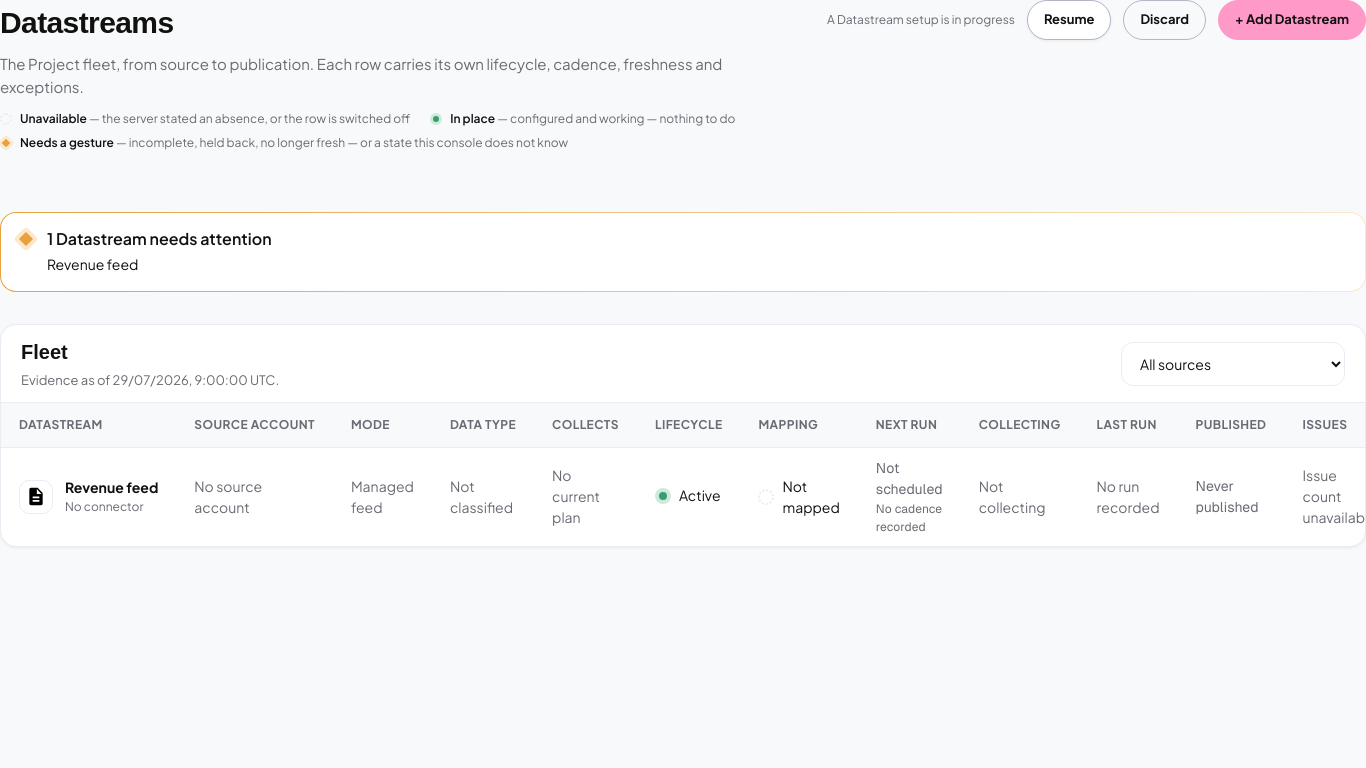
keeps the setup, and says why, when the discard is refused
Check: the text "A Datastream setup is in progress" is shown, box top-left (827, 11), bottom-right (1015, 29)
Click the button "Discard": click(1165, 20) top-left (1124, 0), bottom-right (1206, 40)
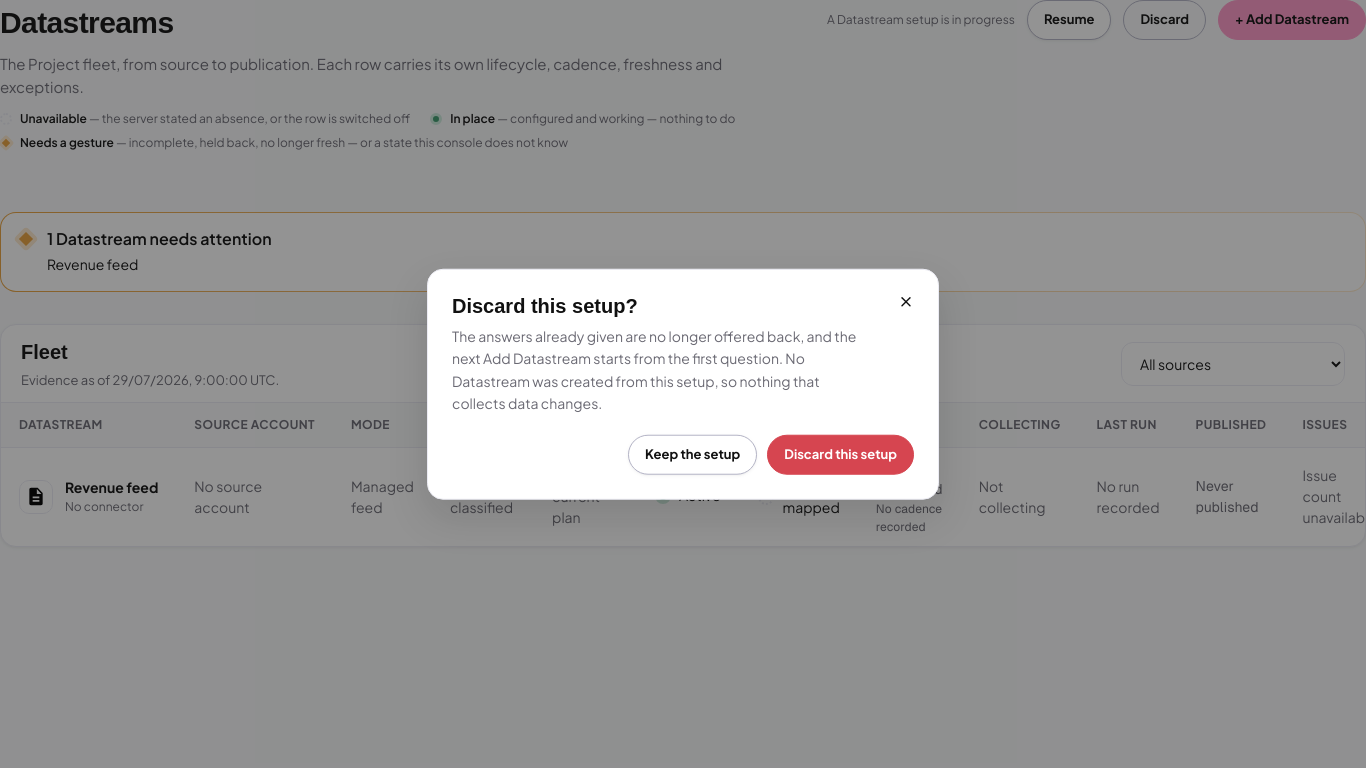
Click the button with test id "datastream-setup-discard-confirm": click(841, 454) top-left (767, 434), bottom-right (914, 474)
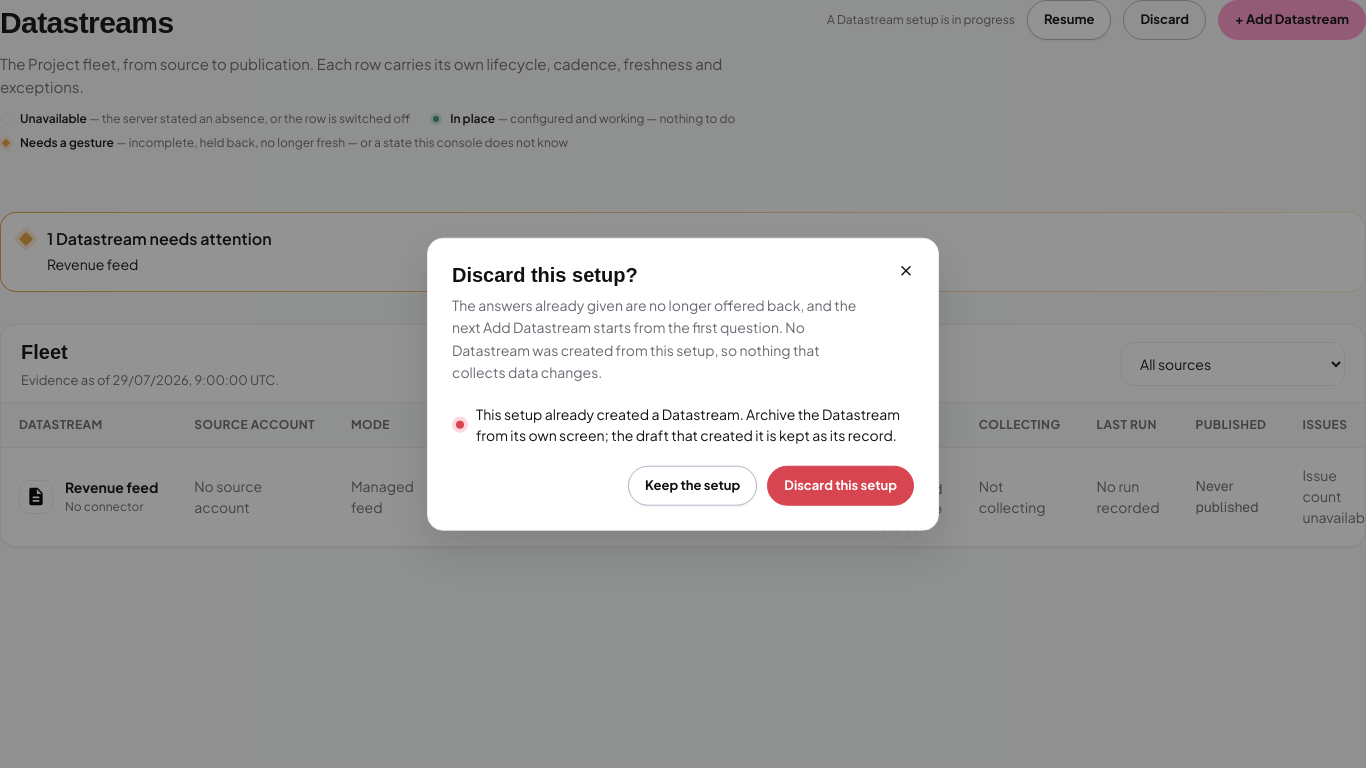
Check: the text "A Datastream setup is in progress" is shown, box top-left (827, 11), bottom-right (1015, 29)
Check: the text "Archive the Datastream from its own screen" is shown, box top-left (476, 404), bottom-right (900, 443)
